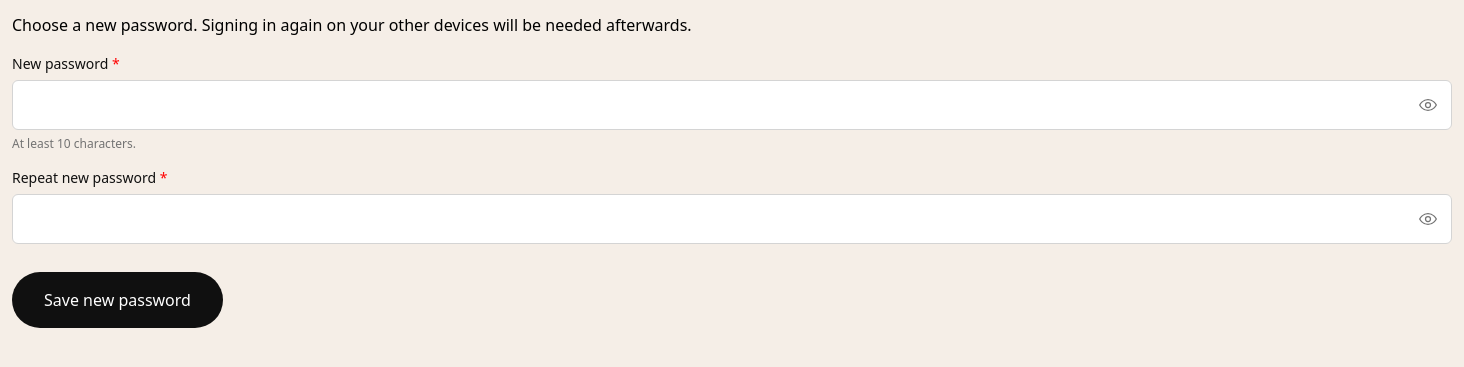
Test: ResetPasswordForm › catches a mistyped confirmation before it locks the customer out
The width and height of the screenshot is (1464, 367).
Type "a-long-enough-password" into the password field labelled "New password *" at (732, 105), box 12,80 -> 1452,130
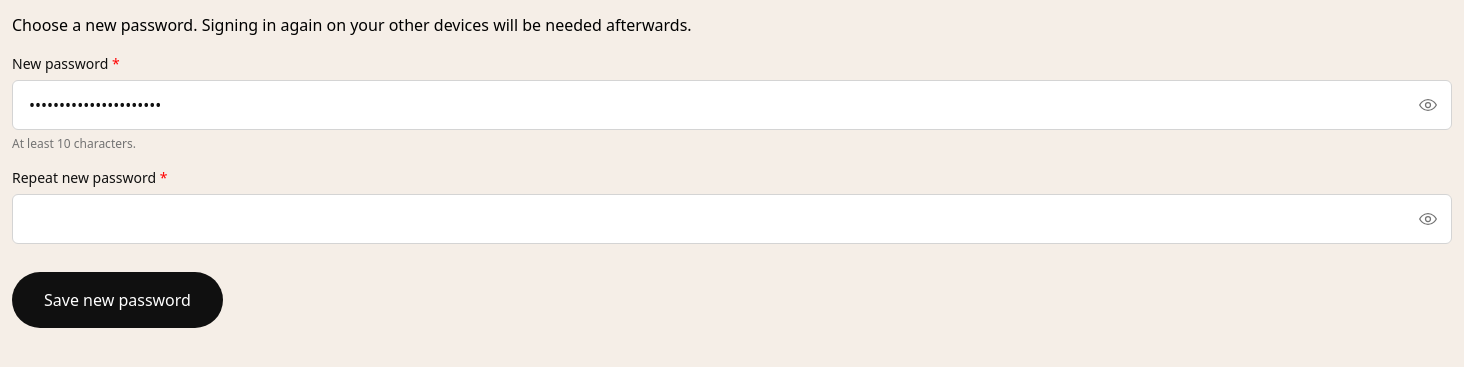
Type "a-long-enough-passwrod" into the password field labelled "Repeat new password *" at (732, 219), box 12,194 -> 1452,244
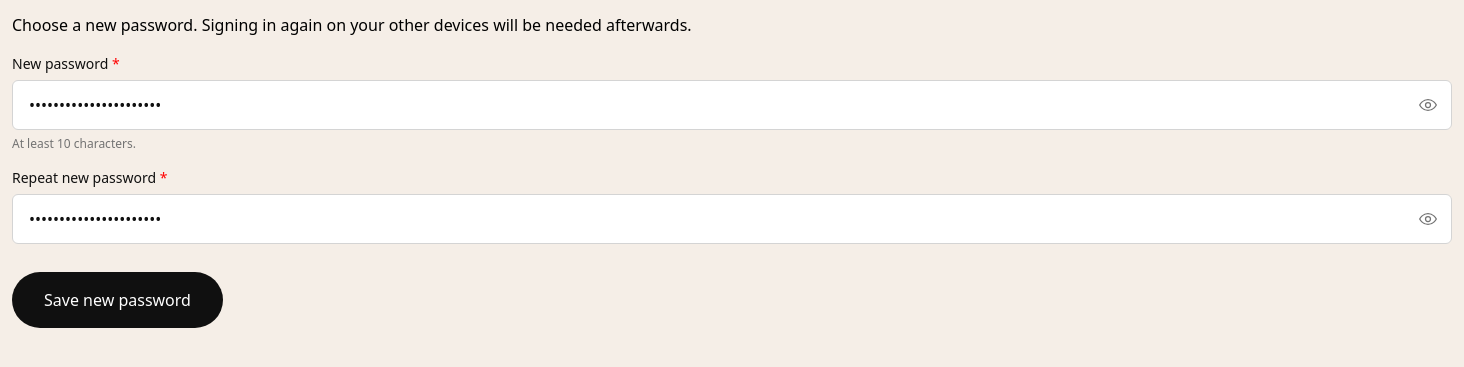
Click the button "Save new password" at (117, 300), box 12,272 -> 223,328
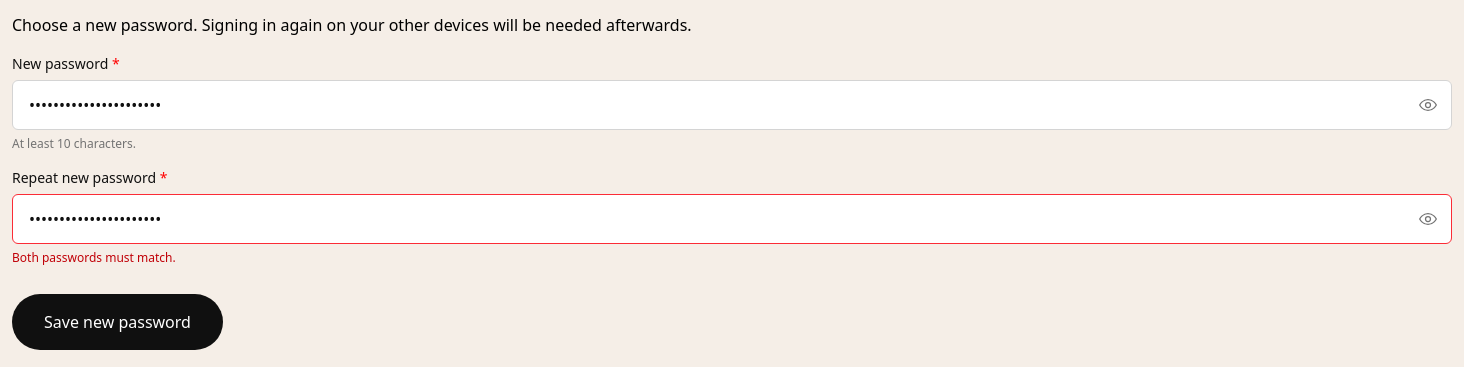
Expected: the text "Both passwords must match." is shown, 12,249 -> 176,266
